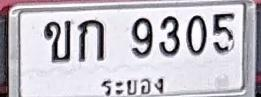0: (186, 14, 206, 56)
3: (158, 15, 180, 57)
5: (212, 12, 234, 54)
9: (131, 17, 152, 58)
A01: (78, 19, 104, 62)
A02: (43, 20, 71, 62)
RYG: (100, 74, 167, 97)
